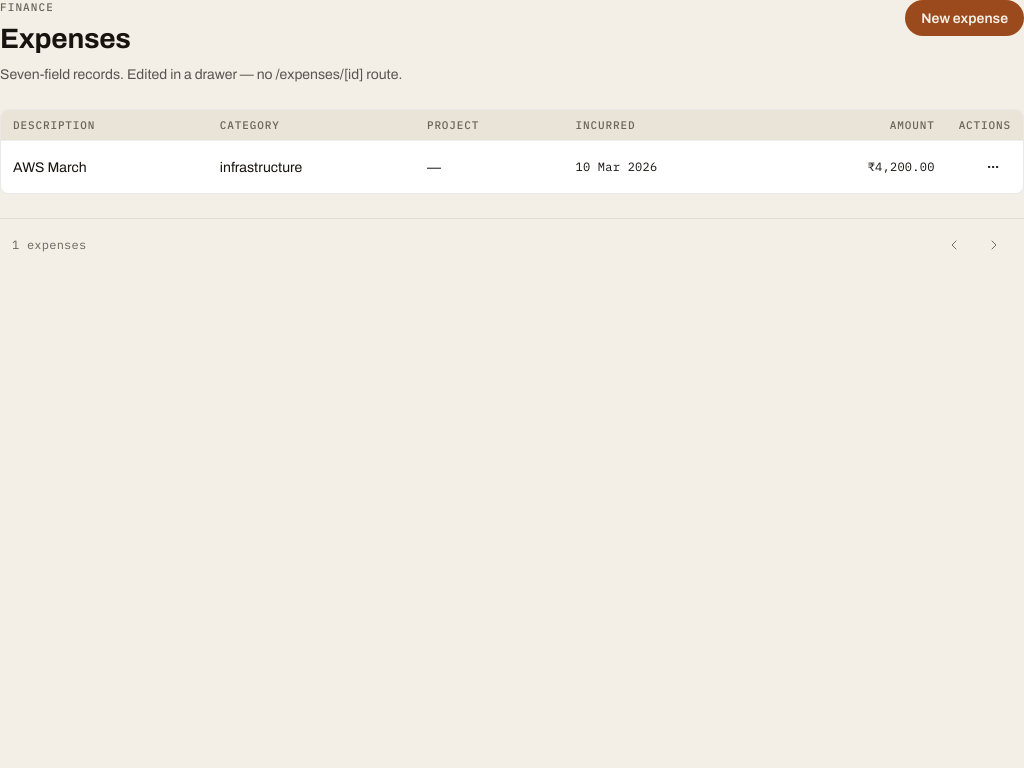
it: Expenses › validates create
The width and height of the screenshot is (1024, 768).
Click the button "New expense": (965, 18) [905,0,1023,36]
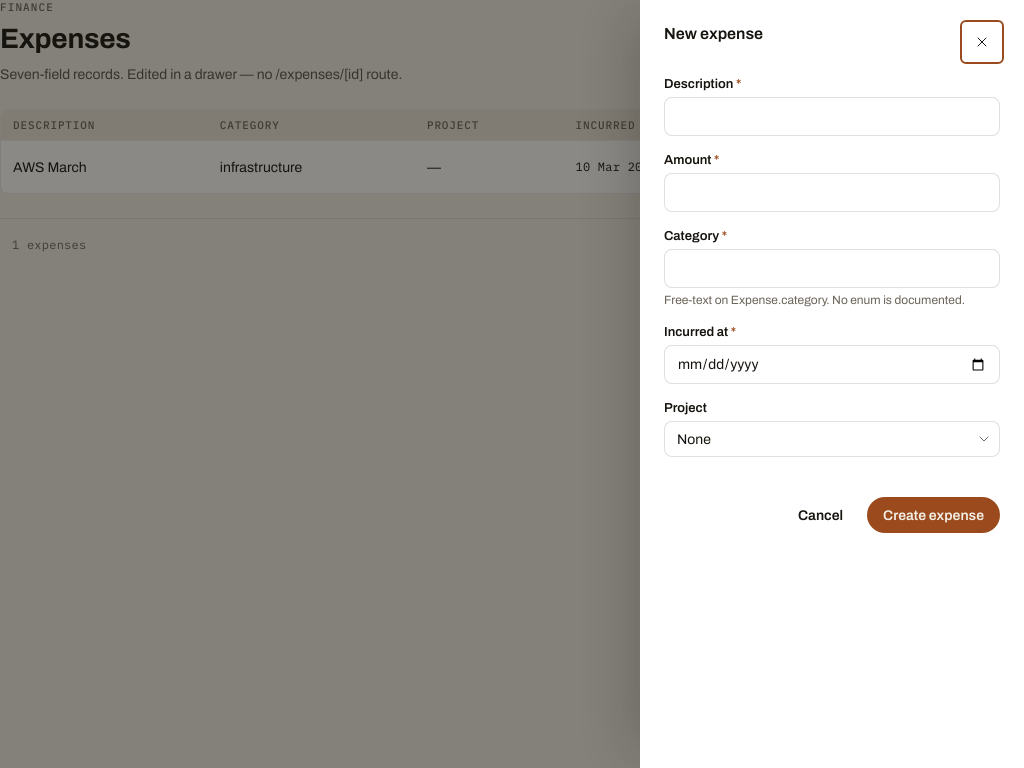
Click the button "Create expense": (934, 515) [867,497,1000,533]
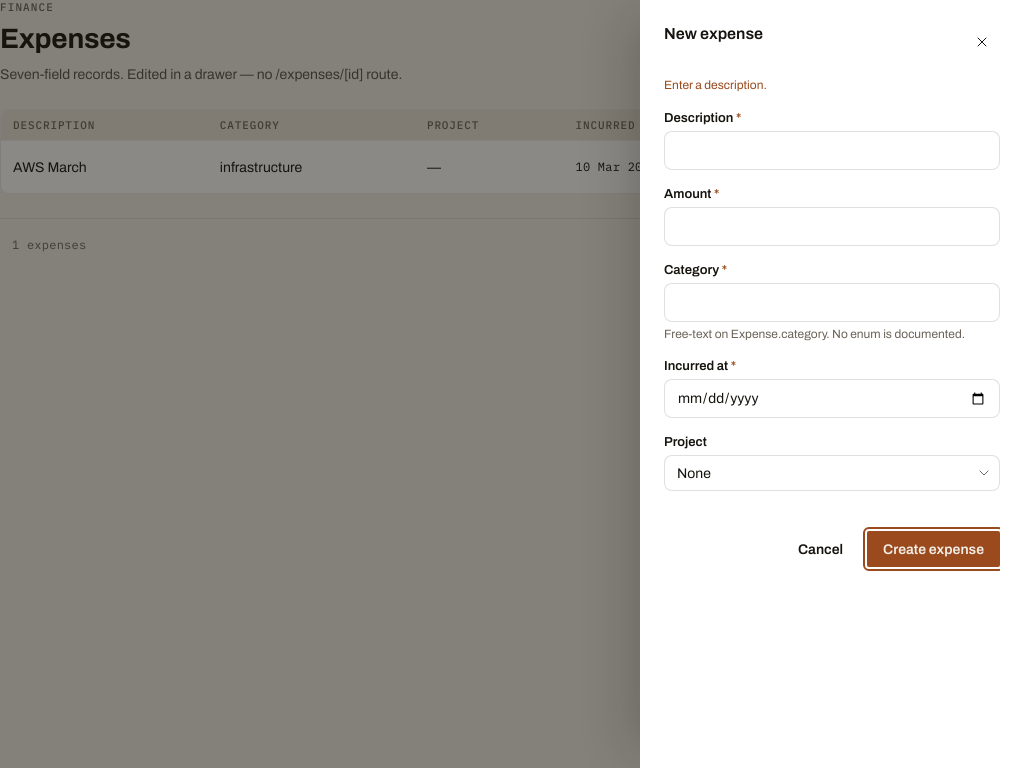
expect the text "Enter a description." is shown: met, box [664,78,767,92]
